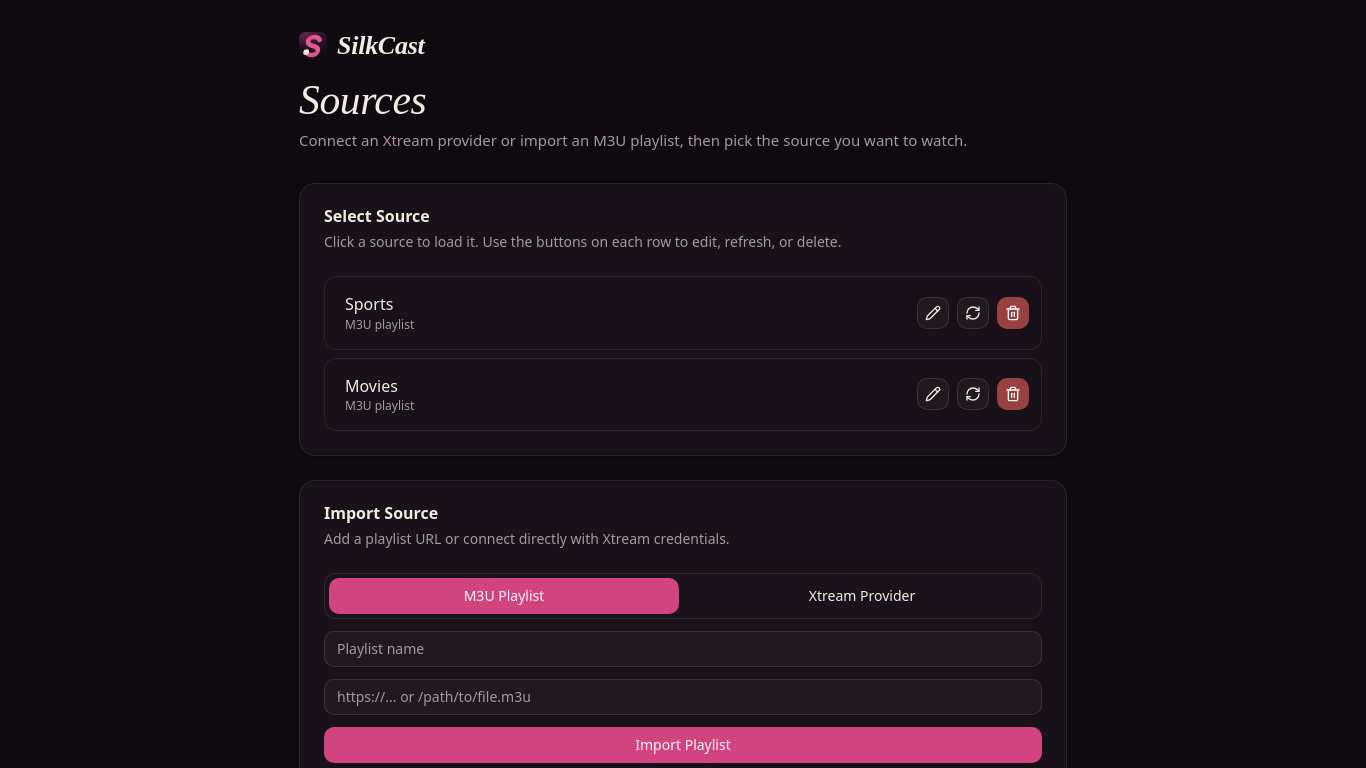
Test case: HomePage › deletes a source from its row action after confirmation
The image size is (1366, 768).
Click the button named "Delete" in the row of "Sports".
click(1013, 313)  # box 997,297 -> 1029,329
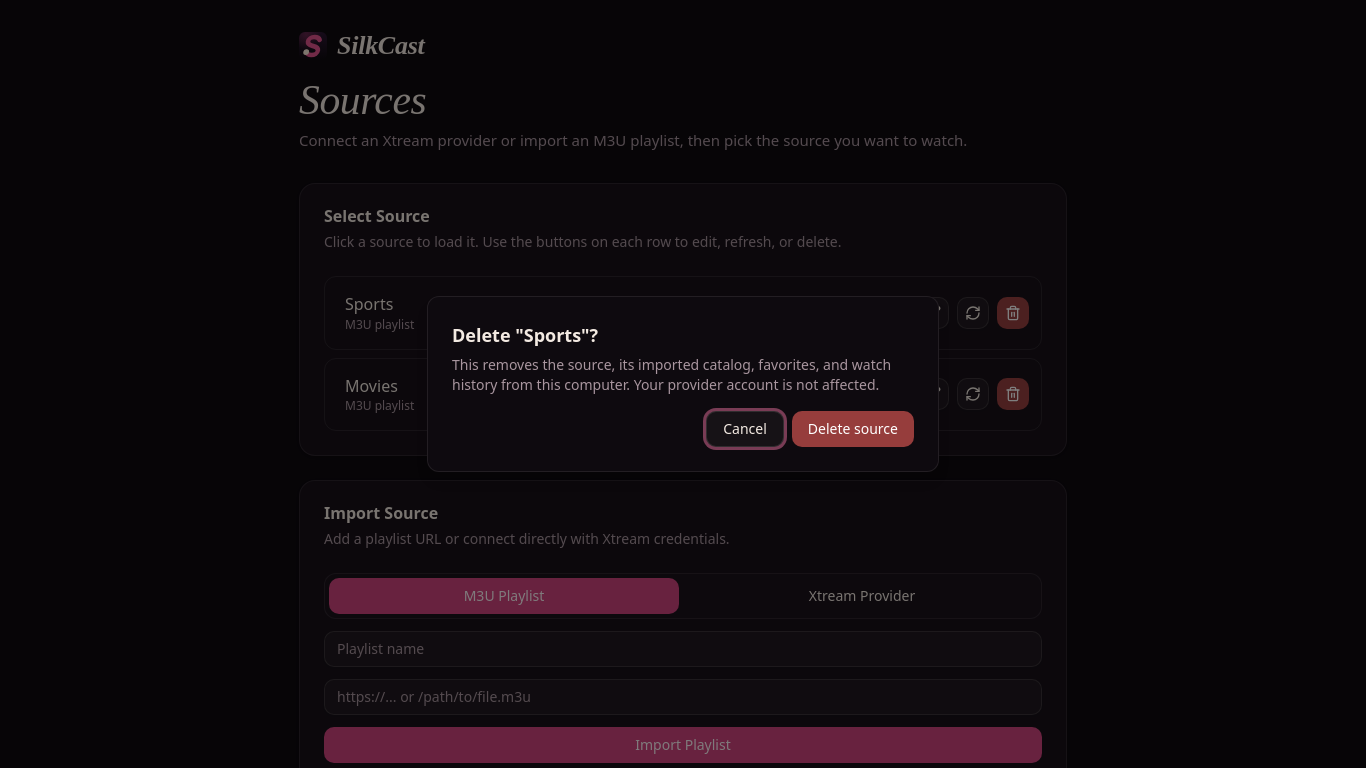
Check: the heading "Delete \"Sports\"?" is shown, box 452,321 -> 598,349
Click the button "Delete source".
click(853, 429)  # box 792,411 -> 914,447
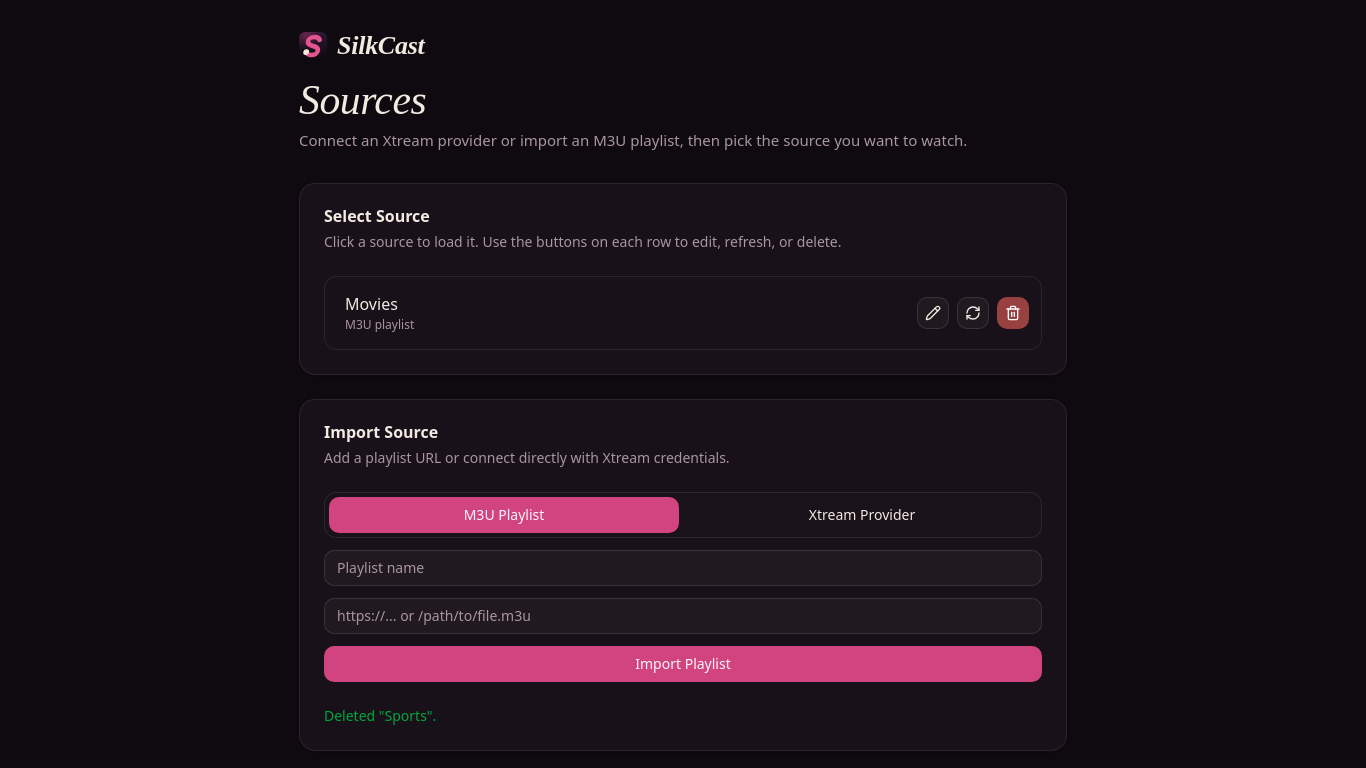
Check: the text "Deleted \"Sports\"." is shown, box 324,706 -> 436,726
